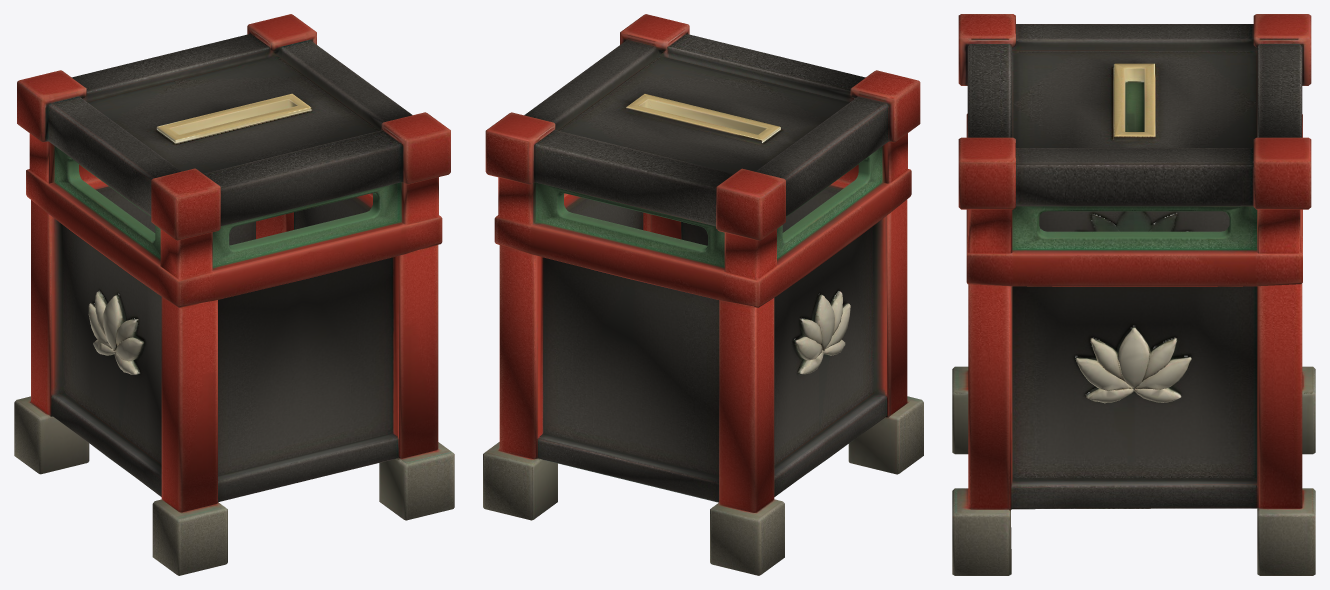
File: tripo_convert_808949be-2414-4212-8489-fdd44d5c550d.fbx
3 renders of one model, left to right at view 1: azimuth 30°, elevation 25°; view 2: azimuth 150°, elevation 25°; view 3: azimuth 270°, elevation 25°, orthographic. The views are drawn at different scales.
Parts seen in each view (by area): view 1: tripo_node_808949be; view 2: tripo_node_808949be; view 3: tripo_node_808949be.
Part boxes in pixels (left/top/right/bottom): tripo_node_808949be: left=14, top=14, right=454, bottom=575; tripo_node_808949be: left=483, top=14, right=923, bottom=575; tripo_node_808949be: left=952, top=14, right=1315, bottom=575.
Size of the model in its own units: 0.7676 by 0.998 by 0.791.
Materials: 1 (1 with a texture image).
